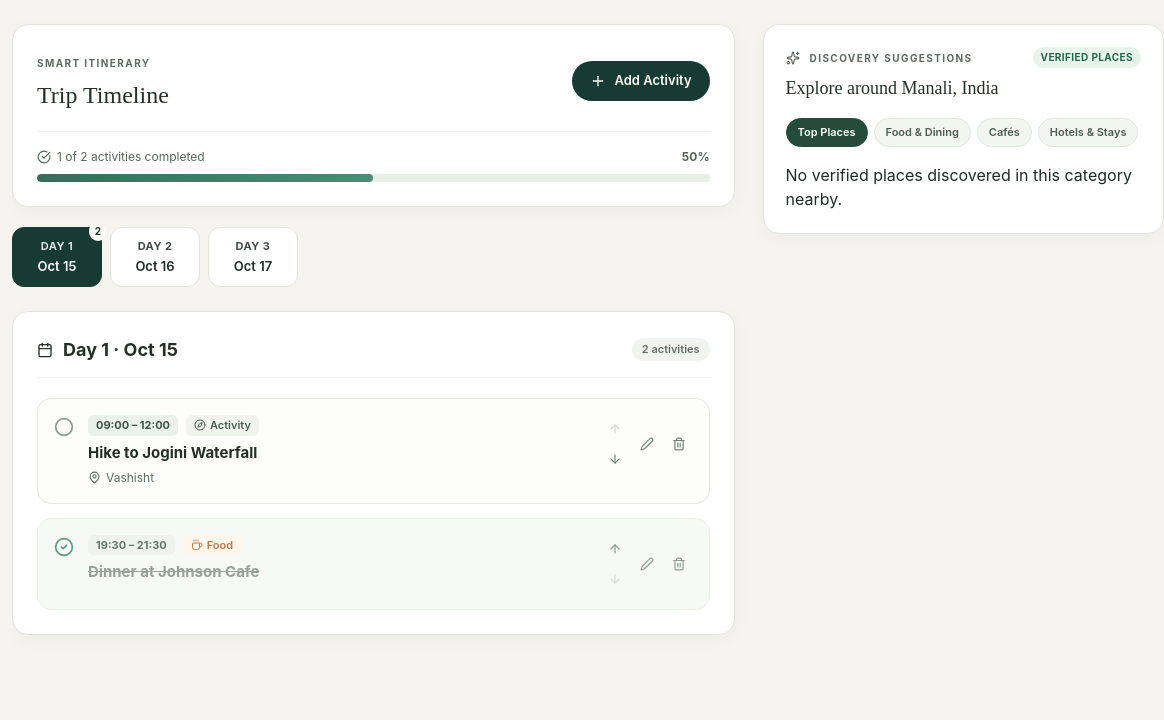
Test case: ItineraryWorkspace › shows empty state when selecting a day without activities
This screenshot has width=1164, height=720.
// Click on Day 2 tab (Oct 16)
Click the text "Day 2".
click(155, 246)  # box [138,238,172,254]
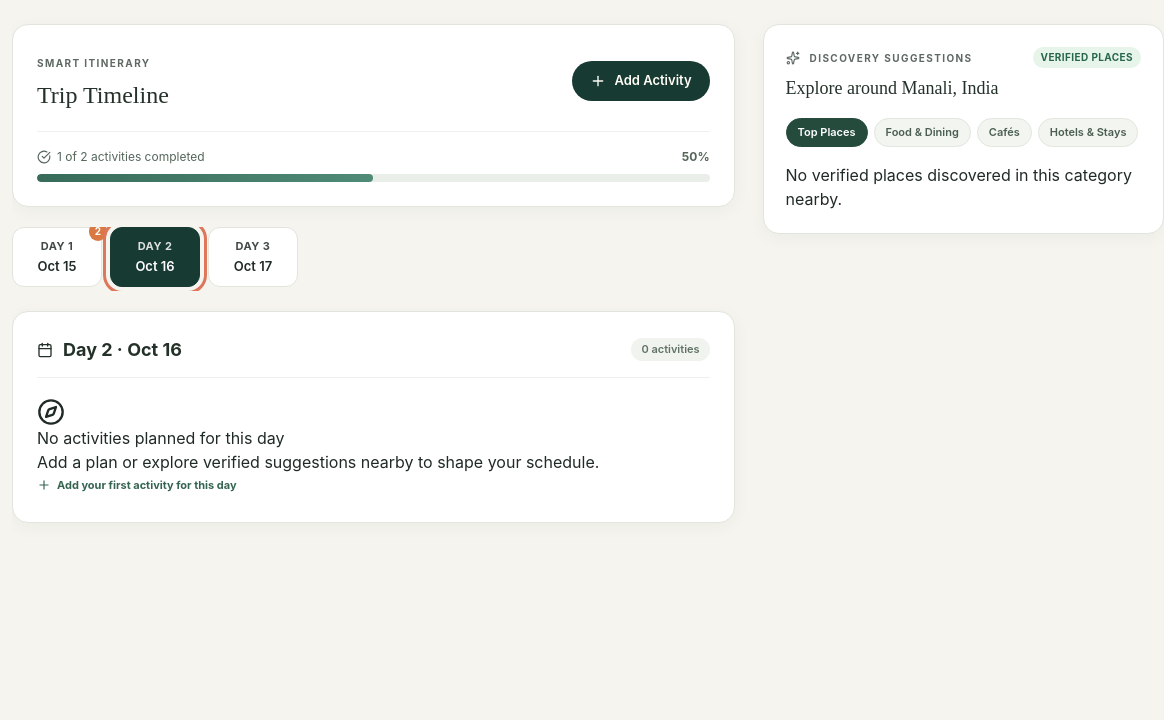
Expected: the heading "No activities planned for this day" is shown, [37,428,284,448]
